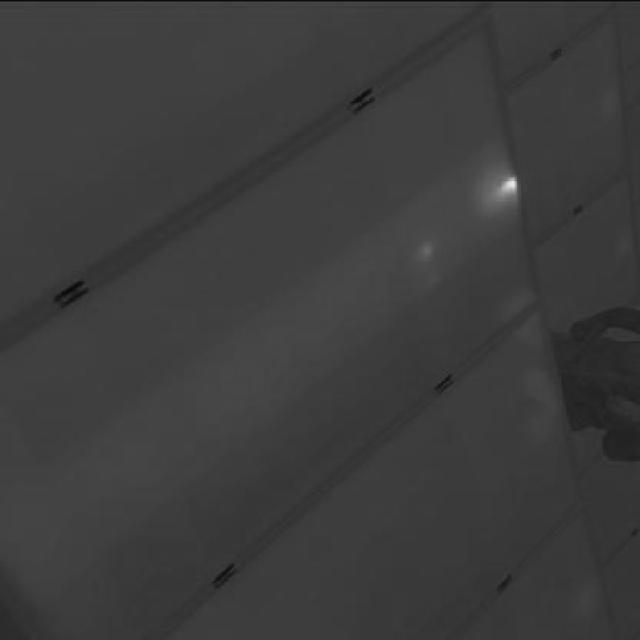hotspot: (482, 160, 521, 208)
